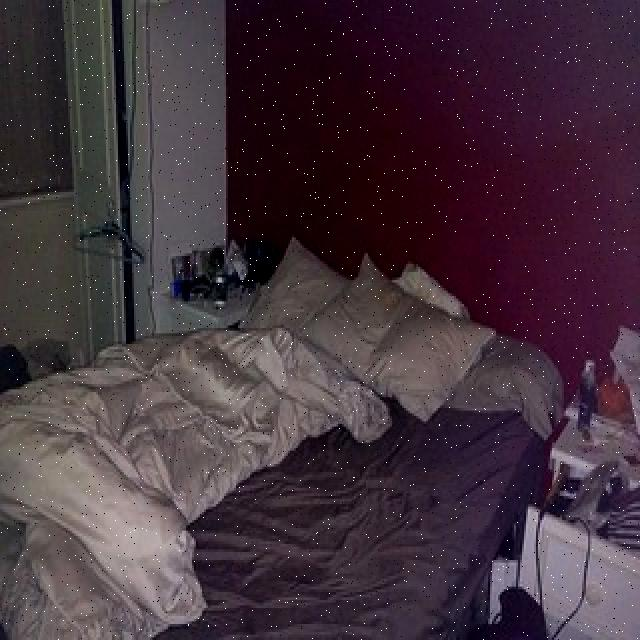bed: (0, 266, 568, 640)
